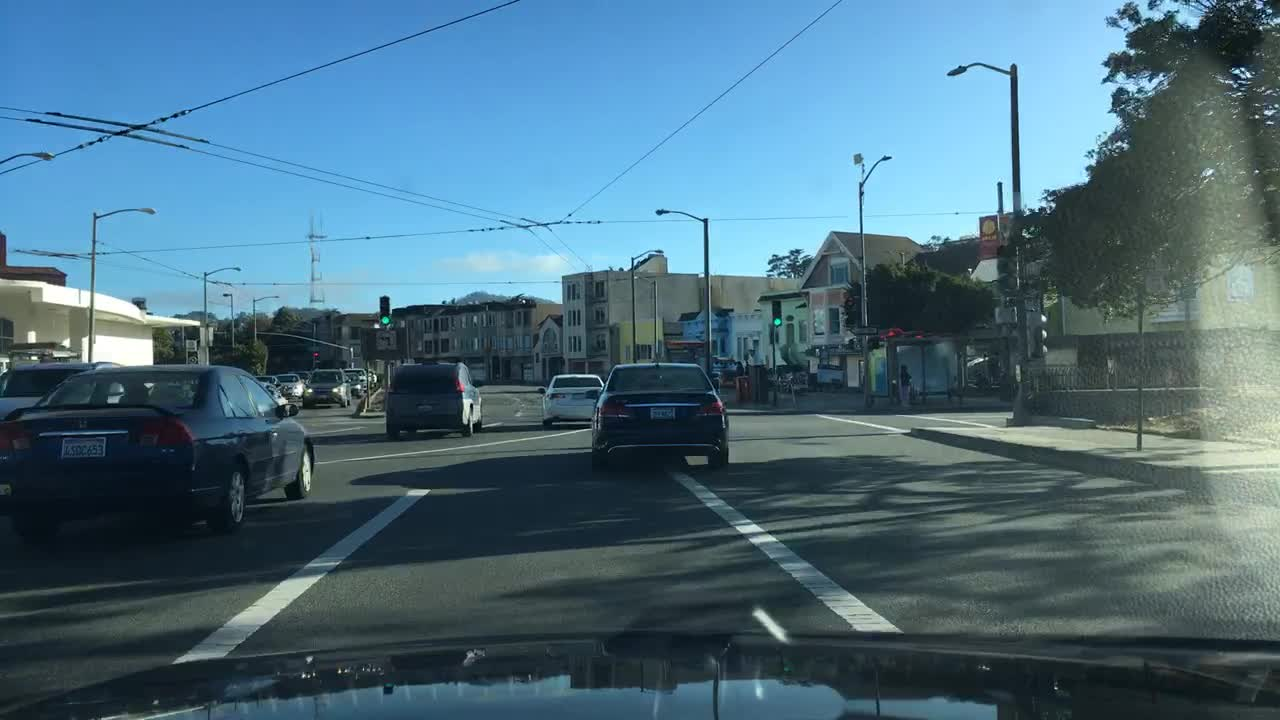car: (0, 363, 316, 545), (587, 360, 732, 475), (0, 360, 127, 433), (382, 358, 486, 438), (534, 372, 604, 428), (300, 367, 354, 407), (251, 372, 288, 398), (274, 372, 305, 400), (342, 370, 365, 400), (342, 367, 367, 393), (286, 368, 311, 386), (708, 368, 725, 389), (360, 370, 375, 391), (365, 368, 379, 386)
person: (895, 360, 916, 409), (727, 356, 746, 389)
traffic light: (377, 295, 391, 326), (770, 300, 786, 325), (310, 346, 321, 362)
traffic sign: (848, 324, 880, 338), (198, 325, 216, 346), (184, 336, 202, 353)
